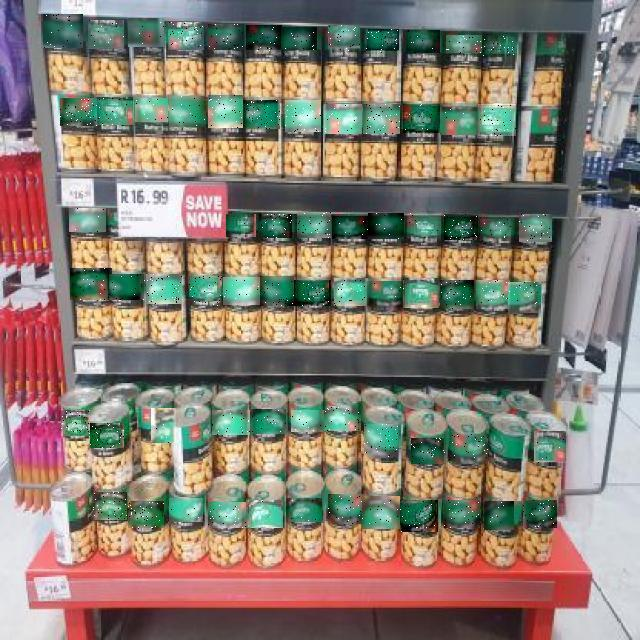Beans: (43, 14, 83, 48), (71, 268, 113, 300), (362, 496, 400, 529), (400, 500, 438, 532), (478, 104, 516, 136), (364, 424, 398, 458), (208, 95, 243, 128), (285, 100, 321, 132), (324, 104, 362, 134), (440, 107, 480, 135), (170, 96, 206, 127), (363, 104, 400, 134), (534, 432, 566, 466), (146, 274, 182, 304), (403, 278, 439, 308), (452, 434, 488, 464), (328, 494, 364, 524), (243, 100, 280, 129), (403, 104, 440, 133), (128, 18, 164, 47), (88, 20, 124, 49), (223, 277, 260, 305), (246, 501, 283, 529), (96, 97, 133, 125), (60, 99, 97, 127), (260, 276, 294, 306), (168, 22, 204, 50), (445, 500, 481, 528), (128, 502, 164, 530), (189, 276, 222, 306), (294, 280, 332, 306), (208, 503, 246, 529), (476, 280, 510, 309), (440, 280, 474, 309), (367, 282, 402, 310), (334, 279, 368, 307), (93, 492, 127, 520), (523, 500, 557, 528), (212, 410, 250, 435), (368, 213, 404, 239), (110, 274, 146, 300), (208, 24, 244, 50), (246, 26, 282, 52), (508, 282, 538, 313), (519, 215, 552, 243), (152, 408, 178, 443), (69, 208, 106, 232), (297, 213, 331, 239), (407, 213, 441, 239), (444, 214, 478, 240), (412, 438, 446, 464), (251, 409, 286, 434), (484, 501, 514, 530), (287, 498, 323, 522), (326, 406, 360, 431), (90, 423, 124, 448), (328, 26, 360, 52), (332, 216, 368, 239), (281, 27, 317, 50), (169, 498, 203, 522), (259, 214, 292, 238), (366, 30, 399, 54), (135, 98, 168, 122), (406, 30, 440, 53), (61, 410, 90, 436), (292, 410, 326, 432), (226, 214, 256, 237), (480, 219, 511, 241), (483, 35, 514, 57), (446, 35, 482, 53)
